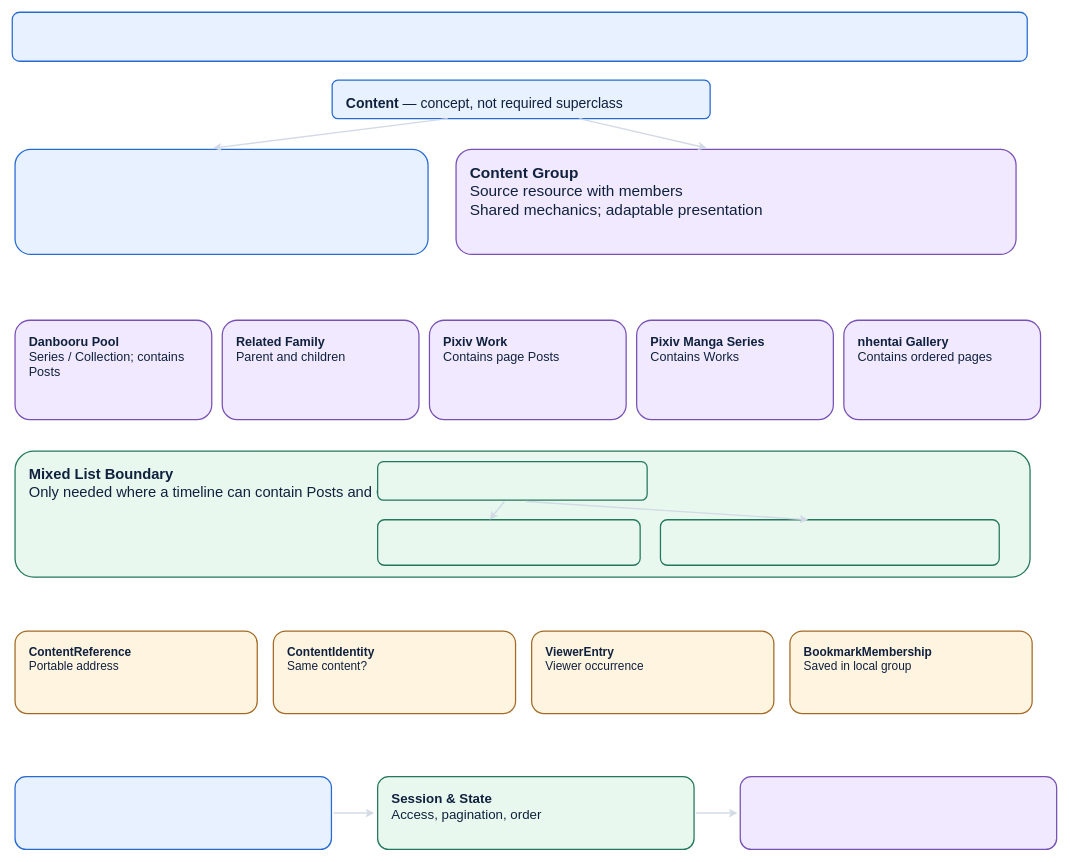
Some shapes in this 1070 by 862 pixel diagram are drawn without their labels. Each missing label, with the box of its shape:
Boorusama Content Architecture Keep Post; add a shared Group layer.: (11, 11, 1028, 62)
ContentListEntry: (377, 461, 647, 500)
GroupListEntry wraps group summary: (659, 519, 1000, 566)
Post One image, video or animation Existing model stays: (14, 148, 428, 255)
PostListEntry wraps a Post: (377, 519, 640, 566)
Shared UI + Viewer Reusable sections: (739, 776, 1057, 850)
Source API / Engine Source-specific loading: (14, 776, 332, 850)
